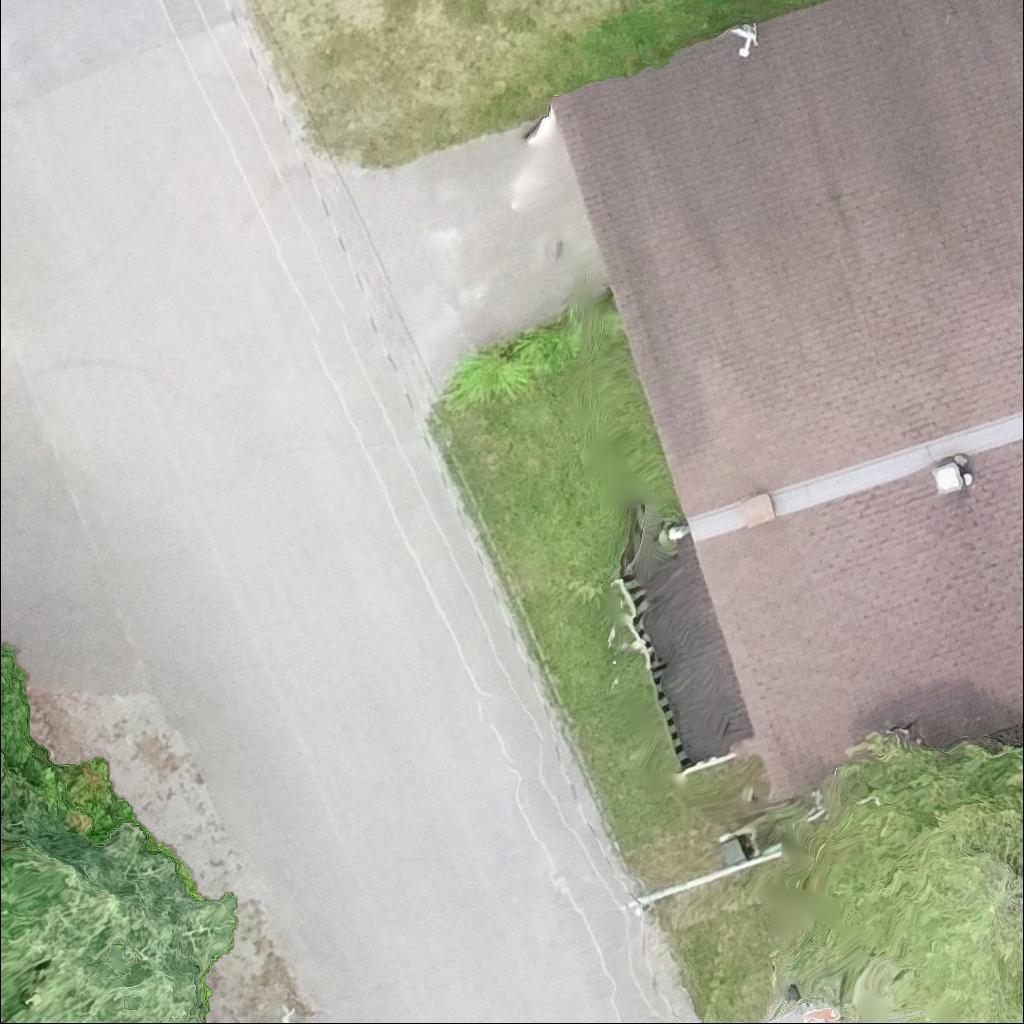crown: (804, 729, 1023, 1023)
